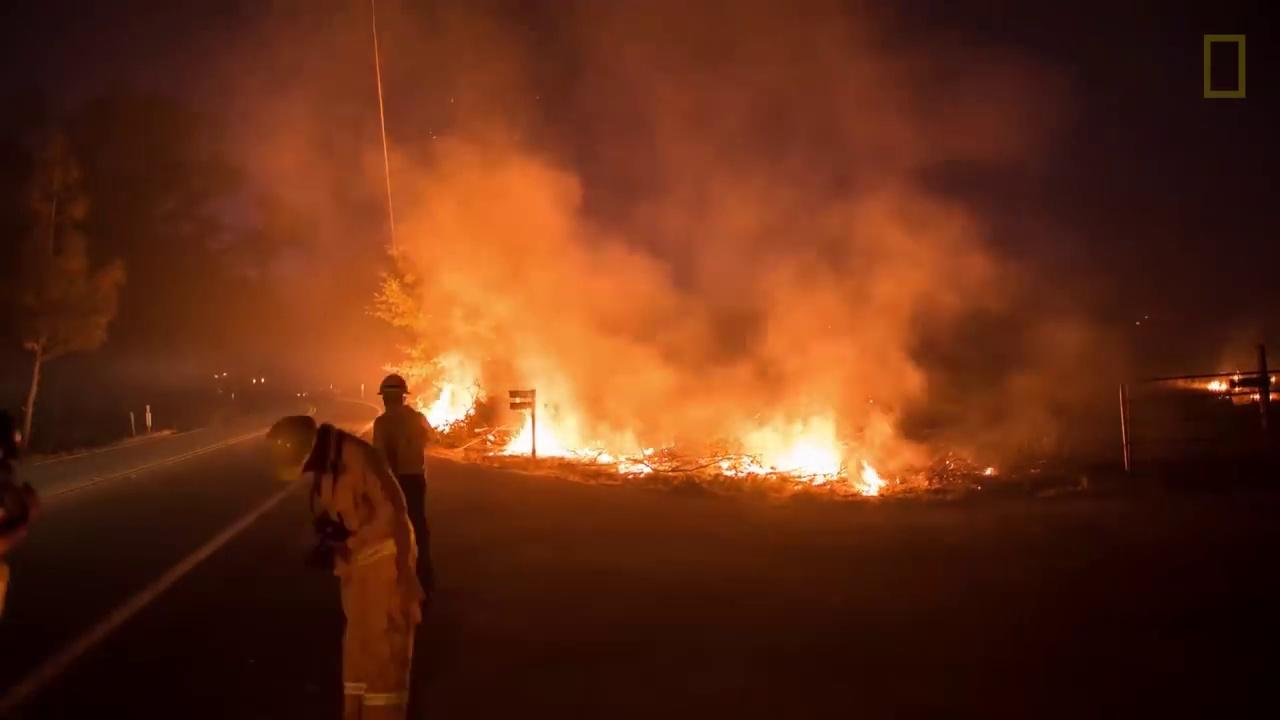Fire: (720, 411, 889, 497), (512, 388, 658, 483), (408, 375, 480, 429), (1204, 375, 1239, 395), (983, 463, 997, 477)
